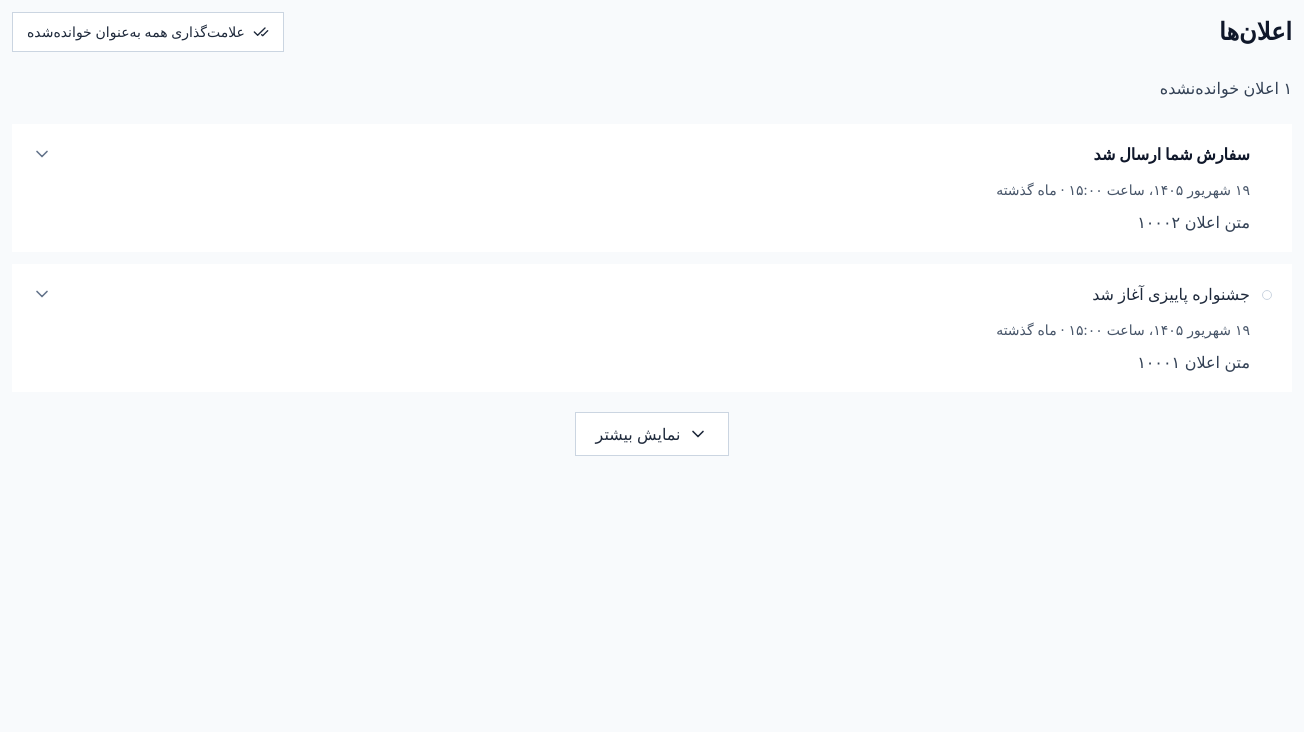
Test: a read written while the inbox is being read › «نمایش بیشتر»’s page on its way still lands, and a row opened meanwhile stays read (its read answered before the page lands)
This screenshot has width=1304, height=732.
Later steps or results of the test are not shown.
Check: the text "۱ اعلان خوانده‌نشده" is shown, box [1160,78,1292,98]
Click the button "نمایش بیشتر" at (652, 434), box [574,412,729,456]
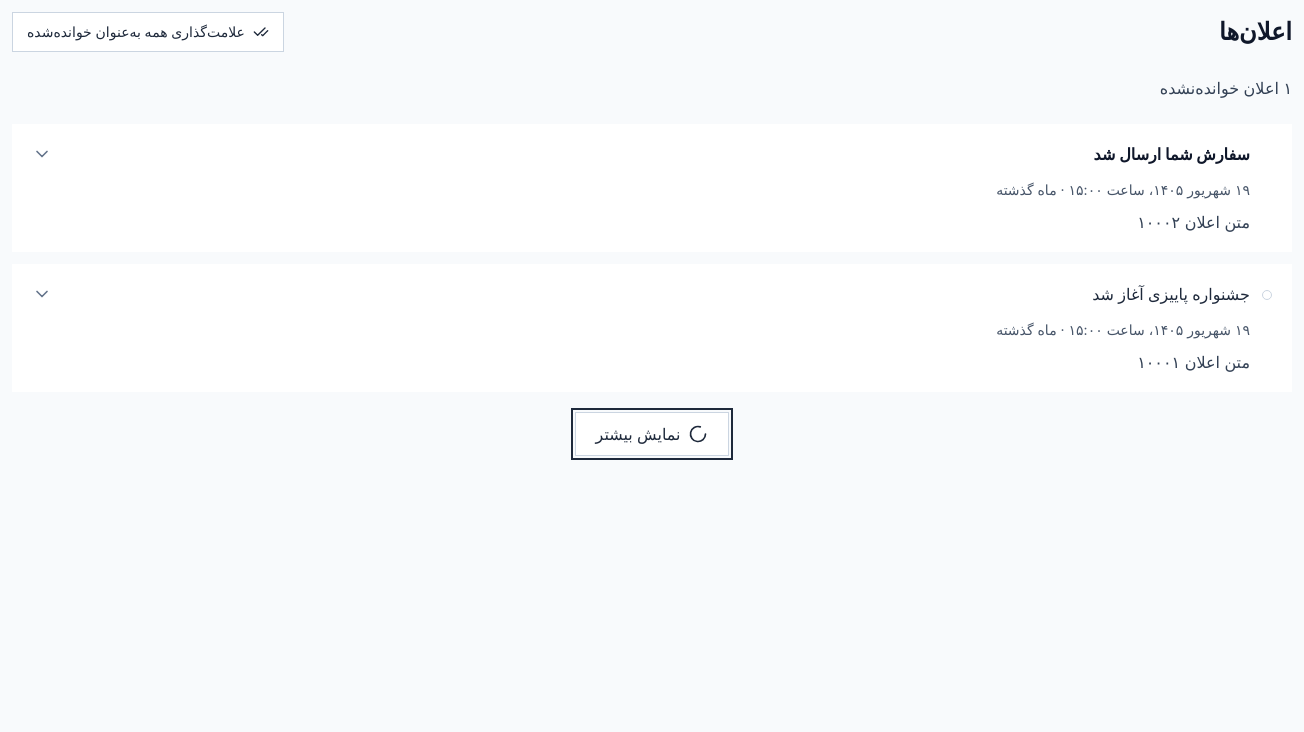
Click the button "سفارش شما ارسال شد" at (1172, 154), box [12,124,1292,180]
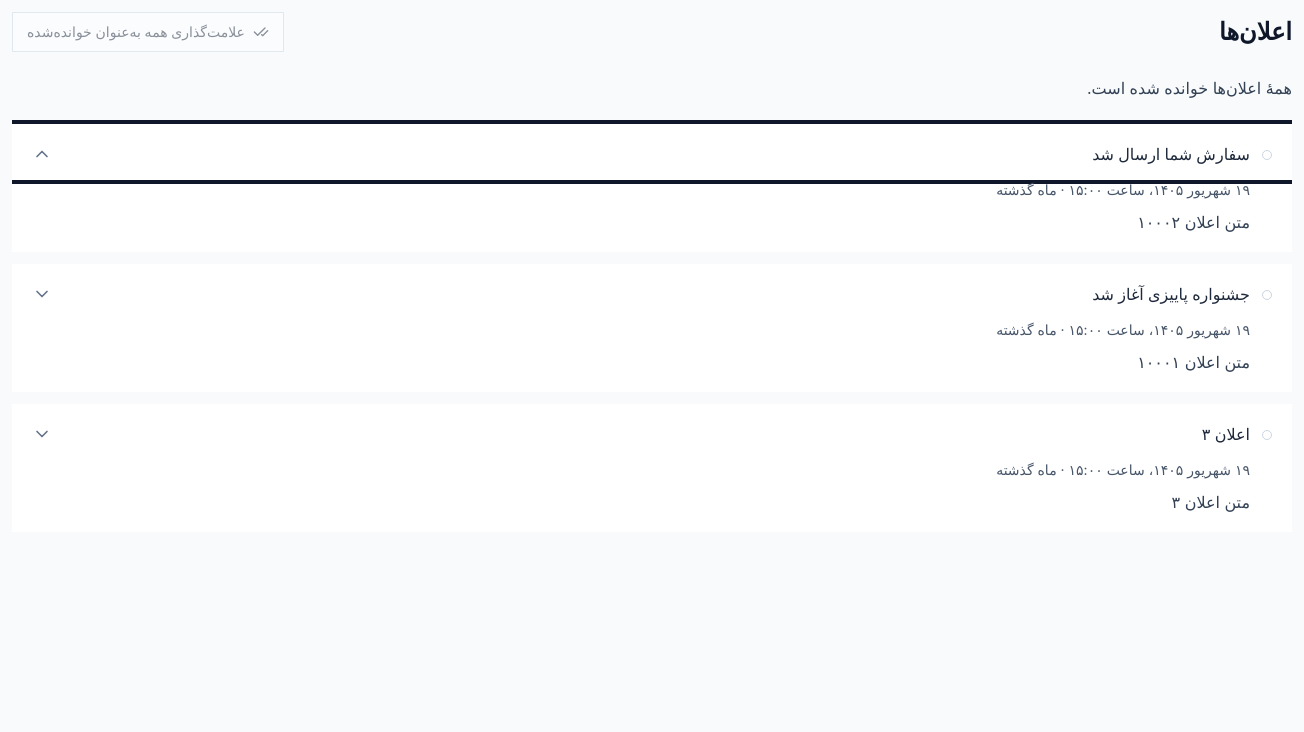
Check: the button "اعلان ۳" is shown, box [12,404,1292,460]
Check: the text "همهٔ اعلان‌ها خوانده شده است." is shown, box [1087,78,1292,98]
